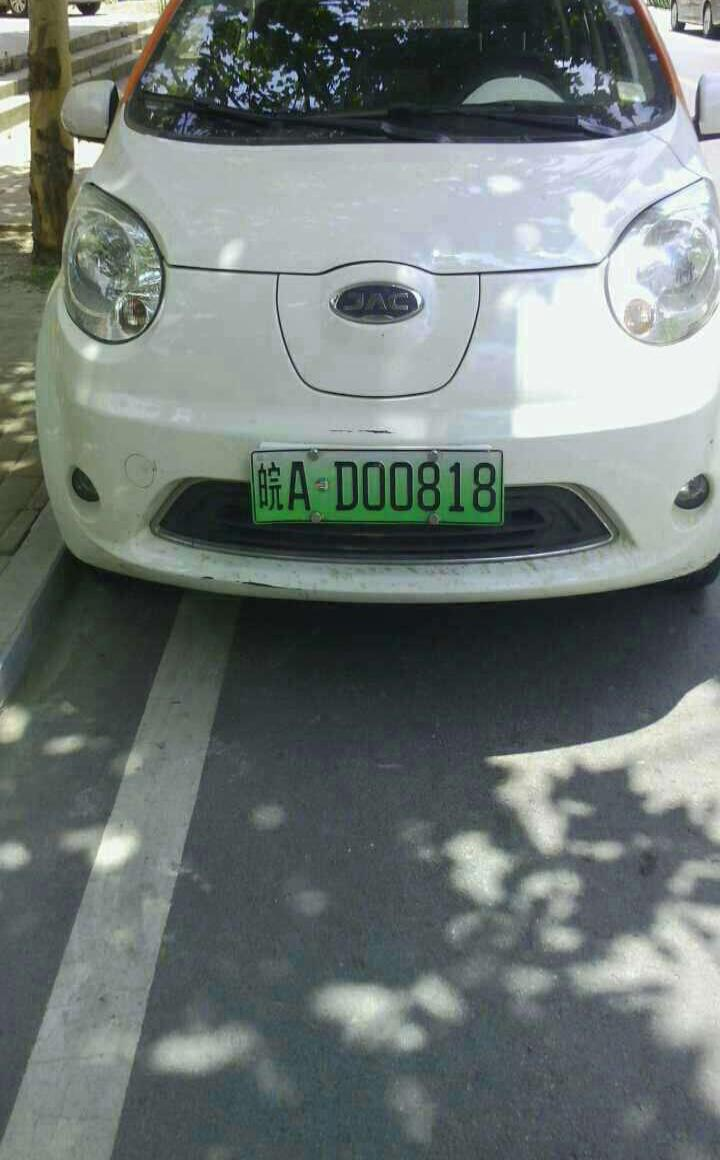car_id: (248, 448, 509, 527)
